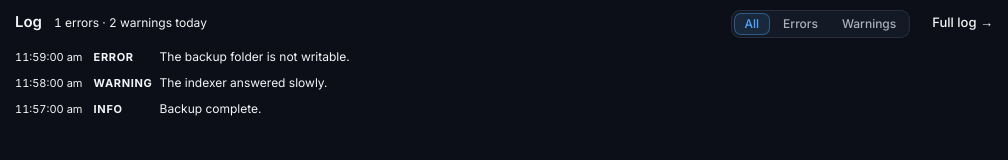
Test: Log › shows today's real entries, counts them, and filters by level
Expected: the text "1 errors · 2 warnings today" is shown, [54, 14, 207, 32]
Expected: the text "The backup folder is not writable." is shown, [160, 49, 350, 64]
Step 1. Click the radio button labelled "Errors" → [800, 24], box [772, 13, 829, 35]
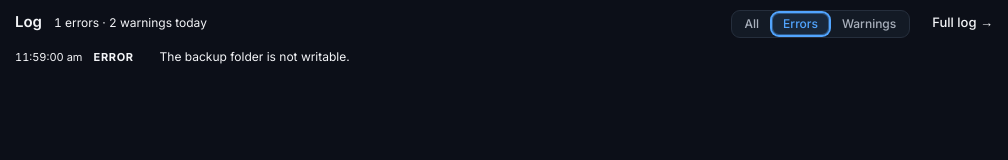
Expected: the text "The backup folder is not writable." is shown, [160, 49, 350, 64]
Expected: the text "The indexer answered slowly." is gone
Step 2. Click the radio button labelled "Warnings" → [869, 24], box [831, 13, 907, 35]
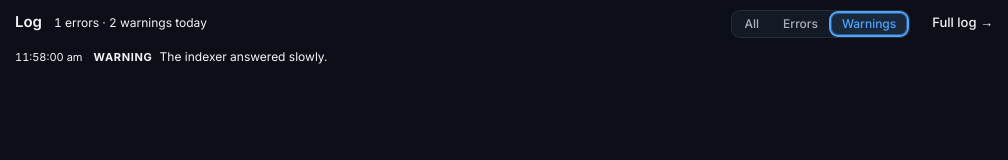
Expected: the text "Backup complete." is not shown
Expected: the text "The indexer answered slowly." is shown, [160, 49, 328, 64]
